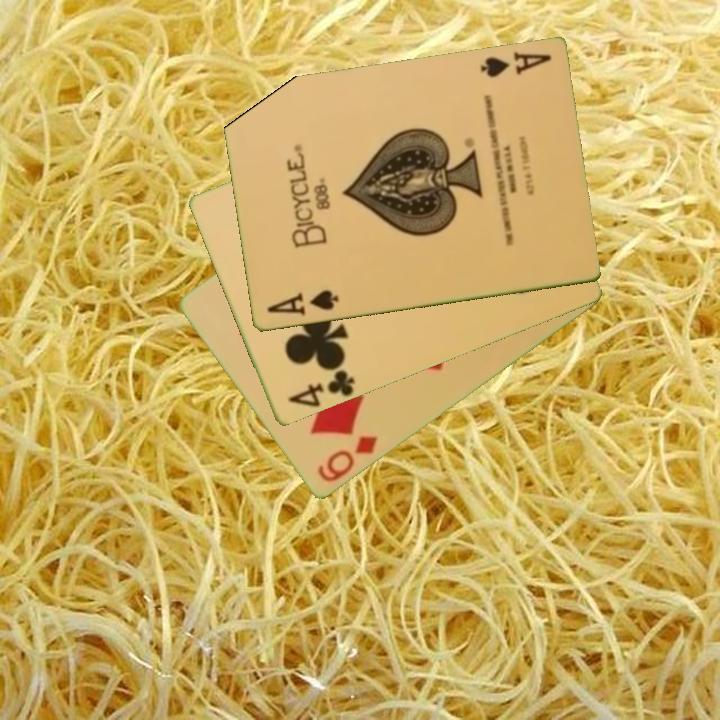4c: (284, 366, 359, 411)
6d: (314, 432, 381, 486)
As: (476, 48, 554, 81), (263, 287, 341, 319)
